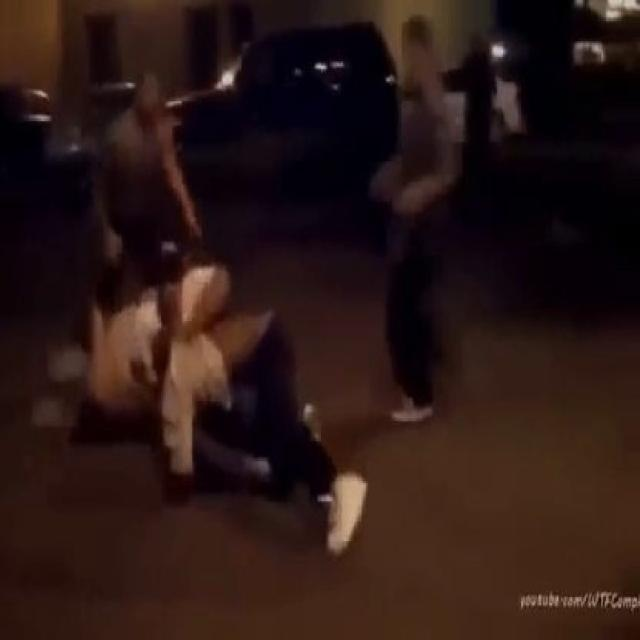fight: (26, 56, 369, 572)
non-fight: (364, 15, 460, 429)
